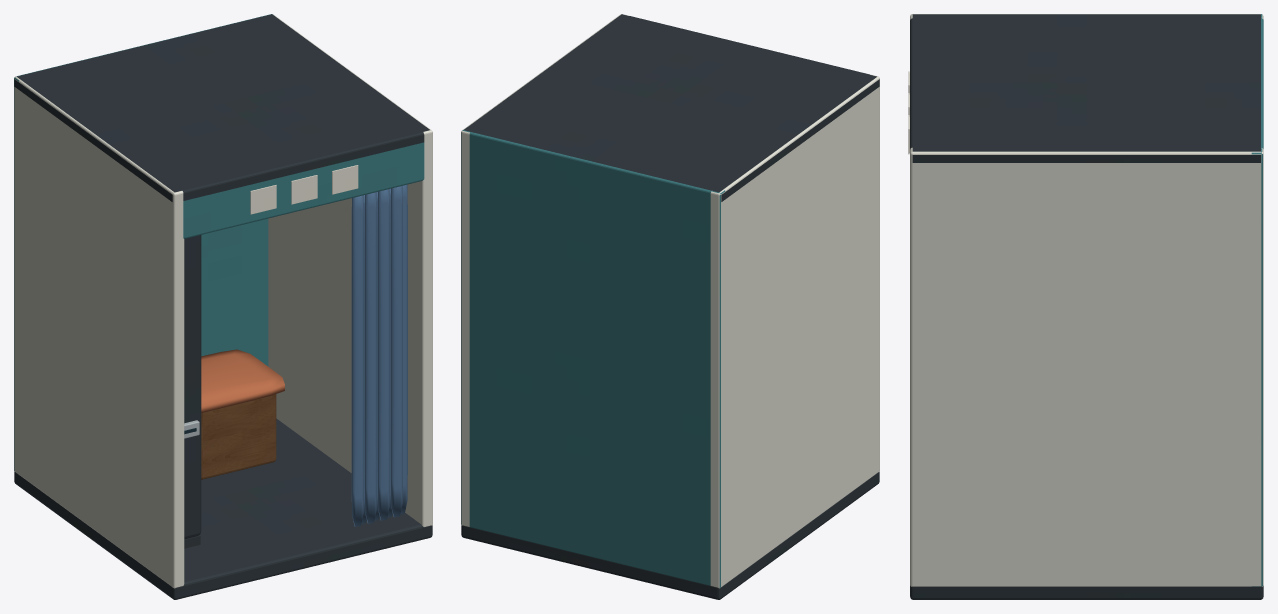
File: photo-booth-original-public-kiosk.glb
3 views of the same model, side by side, from view 1: azimuth 30°, elevation 25°; view 2: azimuth 150°, elevation 25°; view 3: azimuth 270°, elevation 25° (orthographic). The views are drawn at different scales.
Parts seen in each view (by area): view 1: Photo booth side wall, Photo booth roof, Photo booth side wall.001, Photo booth base, Photo booth back wall, Photo booth front header, Photo booth equipment column, Booth bench support, Photo booth gathered entrance curtain.006, Photo booth gathered entrance curtain.004, Photo booth gathered entrance curtain, Photo booth gathered entrance curtain.002 (+5 smaller); view 2: Photo booth back wall, Photo booth side wall, Photo booth roof, Photo booth base, Photo booth side wall.001; view 3: Photo booth side wall.001, Photo booth roof, Photo booth base, Photo booth back wall.
Boxes of the visible parts, left/top/right/bottom form: Photo booth side wall: left=14, top=76, right=184, bottom=588; Photo booth roof: left=14, top=14, right=429, bottom=201; Photo booth side wall.001: left=268, top=14, right=432, bottom=526; Photo booth base: left=14, top=418, right=432, bottom=599; Photo booth back wall: left=14, top=14, right=271, bottom=471; Photo booth front header: left=183, top=142, right=424, bottom=238; Photo booth equipment column: left=184, top=235, right=201, bottom=539; Booth bench support: left=201, top=394, right=276, bottom=479; Photo booth gathered entrance curtain.006: left=390, top=186, right=402, bottom=517; Photo booth gathered entrance curtain.004: left=377, top=189, right=389, bottom=520; Photo booth gathered entrance curtain: left=351, top=195, right=363, bottom=526; Photo booth gathered entrance curtain.002: left=364, top=192, right=376, bottom=523; Photo booth back wall: left=461, top=130, right=725, bottom=587; Photo booth side wall: left=710, top=74, right=879, bottom=588; Photo booth roof: left=464, top=14, right=879, bottom=201; Photo booth base: left=461, top=472, right=879, bottom=599; Photo booth side wall.001: left=461, top=14, right=629, bottom=526; Photo booth side wall.001: left=910, top=147, right=1263, bottom=586; Photo booth roof: left=910, top=14, right=1260, bottom=162; Photo booth base: left=910, top=585, right=1263, bottom=599; Photo booth back wall: left=1251, top=14, right=1263, bottom=586.
Bounding box in the file's own units: 1.4 × 2.1 × 1.51.
Materials: 12 (12 with a texture image).
